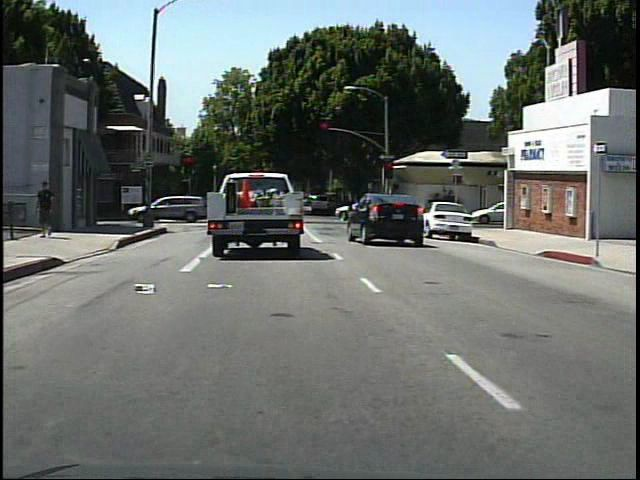person: (36, 178, 63, 240)
